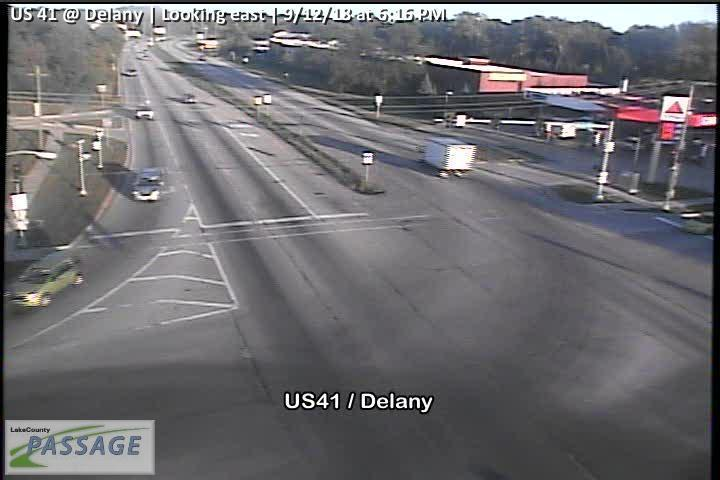Bus: (680, 210, 712, 234)
SUV: (2, 249, 86, 311)
Sedan: (130, 167, 168, 203), (133, 102, 156, 122), (179, 91, 197, 104), (126, 67, 140, 77)
Truck: (414, 133, 476, 178)
